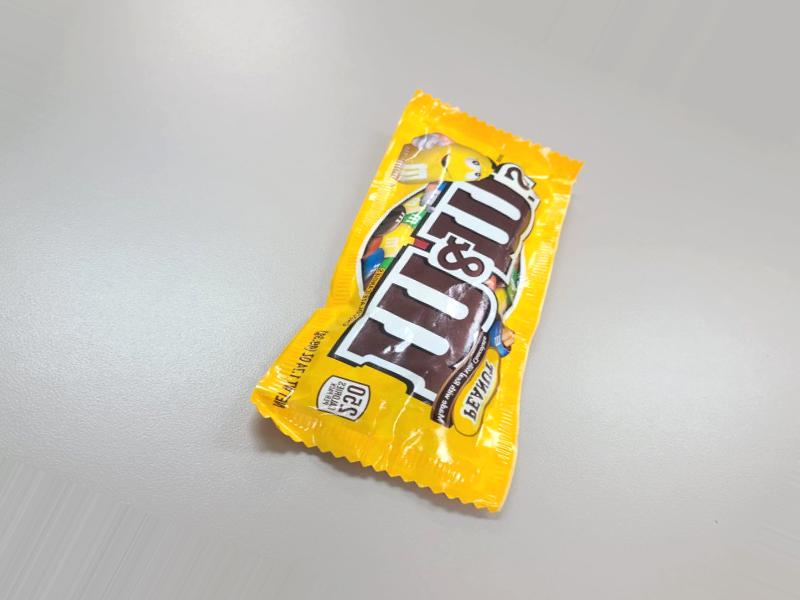m&m: (270, 121, 583, 510)
